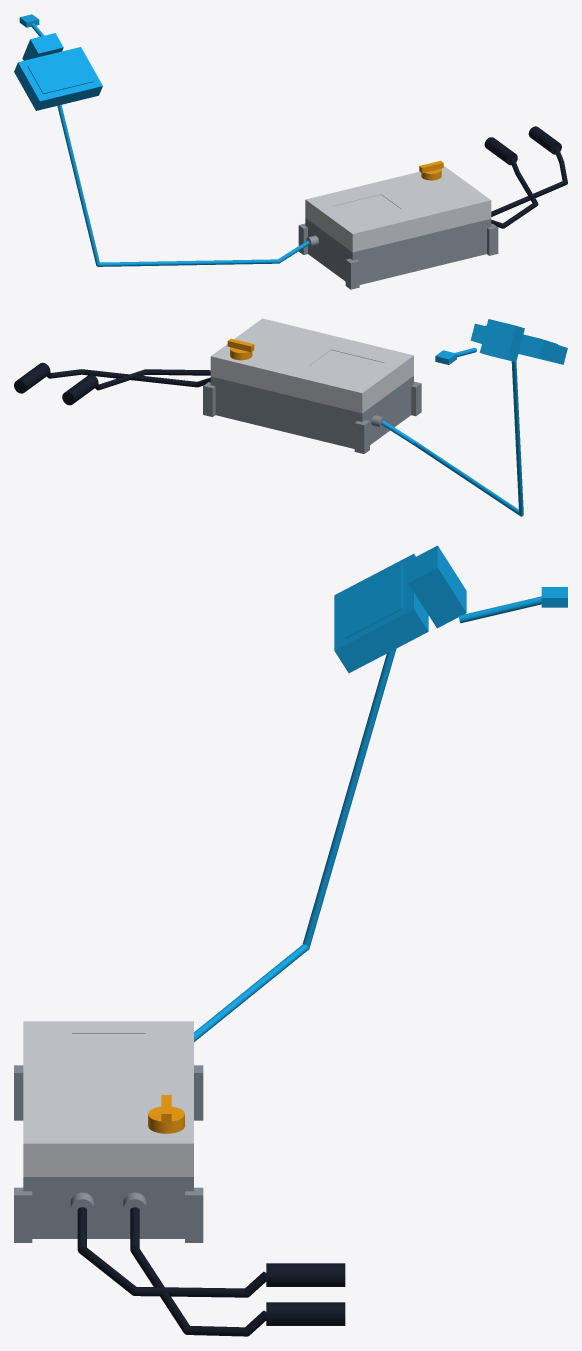
The picture shows the model from 3 angles, top to bottom: view 1: azimuth 30°, elevation 25°; view 2: azimuth 150°, elevation 25°; view 3: azimuth 270°, elevation 25°; orthographic projection. The views are drawn at different scales.
Visible parts, largest first — view 1: Enclosure lid with window, Enclosure body, IP54 ABS, Sensor pod: reference cell, temperature, Test leads with MC4 connectors, DC isolator, 2-pole; view 2: Enclosure lid with window, Enclosure body, IP54 ABS, Sensor pod: reference cell, temperature, Test leads with MC4 connectors, DC isolator, 2-pole; view 3: Enclosure lid with window, Sensor pod: reference cell, temperature, Enclosure body, IP54 ABS, Test leads with MC4 connectors, DC isolator, 2-pole.
Part boxes in pixels (x1,y1,x2,y2): Enclosure lid with window: (305,166,491,252); Enclosure body, IP54 ABS: (298,218,498,289); Sensor pod: reference cell, temperature: (14,14,309,266); Test leads with MC4 connectors: (484,126,567,228); DC isolator, 2-pole: (419,160,443,180); Enclosure lid with window: (210,318,413,413); Enclosure body, IP54 ABS: (203,376,421,453); Sensor pod: reference cell, temperature: (381,319,567,516); Test leads with MC4 connectors: (14,362,210,405); DC isolator, 2-pole: (227,338,254,360); Enclosure lid with window: (23,1021,193,1176); Sensor pod: reference cell, temperature: (194,545,567,1041); Enclosure body, IP54 ABS: (14,1065,203,1242); Test leads with MC4 connectors: (77,1207,345,1336); DC isolator, 2-pole: (148,1095,184,1133).
Size of the model in its own units: 0.799 by 0.3256 by 0.4213.
